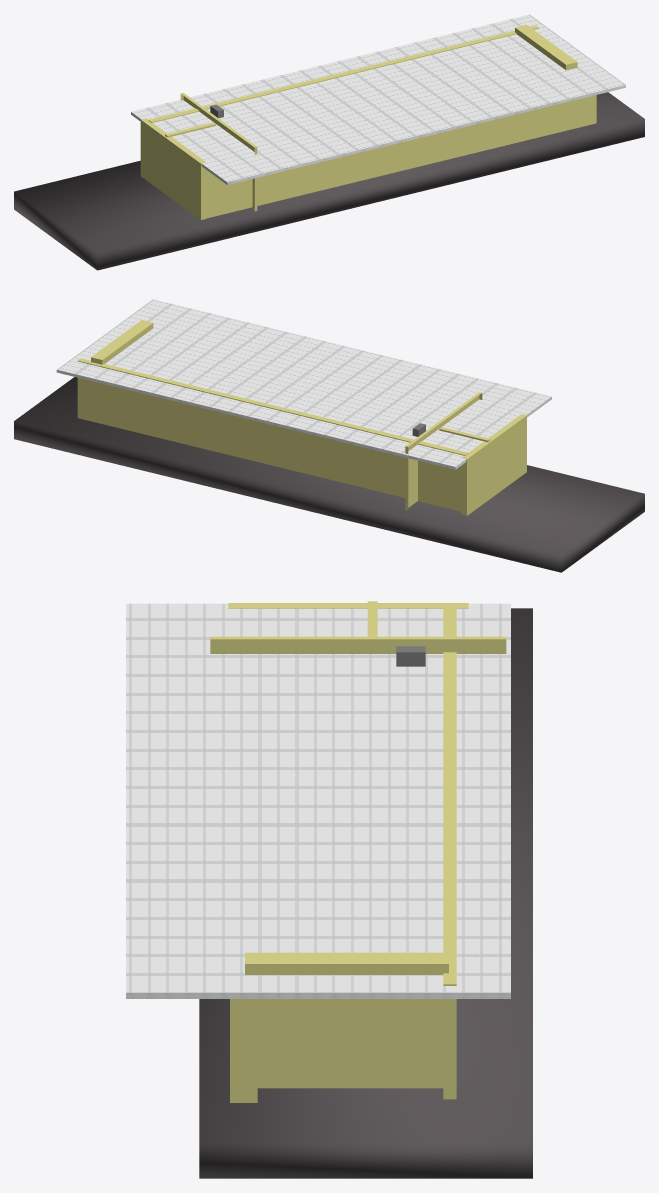
File: escena.glb
The picture shows the model from 3 angles, top to bottom: view 1: azimuth 30°, elevation 25°; view 2: azimuth 150°, elevation 25°; view 3: azimuth 270°, elevation 25°; orthographic projection. The views are drawn at different scales.
Parts seen in each view (by area): view 1: Cube.005, Cube, Cube.004, Cube.008, Cube.001, Cube.003, Cube.002; view 2: Cube.005, Cube, Cube.001, Cube.008, Cube.002, Cube.003; view 3: Cube.005, Cube, Cube.003, Cube.001, Cube.002, Cube.004, Cube.008.
Part boxes in pixels (x1,y1,x2,y2): Cube.005: (131,14,625,184); Cube: (14,92,644,270); Cube.004: (206,95,596,218); Cube.008: (140,118,206,219); Cube.001: (148,25,539,122); Cube.003: (515,25,577,70); Cube.002: (180,93,257,211); Cube.005: (56,299,551,469); Cube: (14,377,644,572); Cube.001: (77,358,468,511); Cube.008: (461,414,526,515); Cube.002: (405,392,482,510); Cube.003: (91,320,153,364); Cube.005: (126,603,510,998); Cube: (199,608,532,1178); Cube.003: (245,952,448,1088); Cube.001: (443,606,456,1099); Cube.002: (210,636,506,653); Cube.004: (230,999,257,1102); Cube.008: (228,603,468,608).
Size of the model in its own units: 51.62 by 7.38 by 16.61.
Materials: 5 (1 with a texture image).
